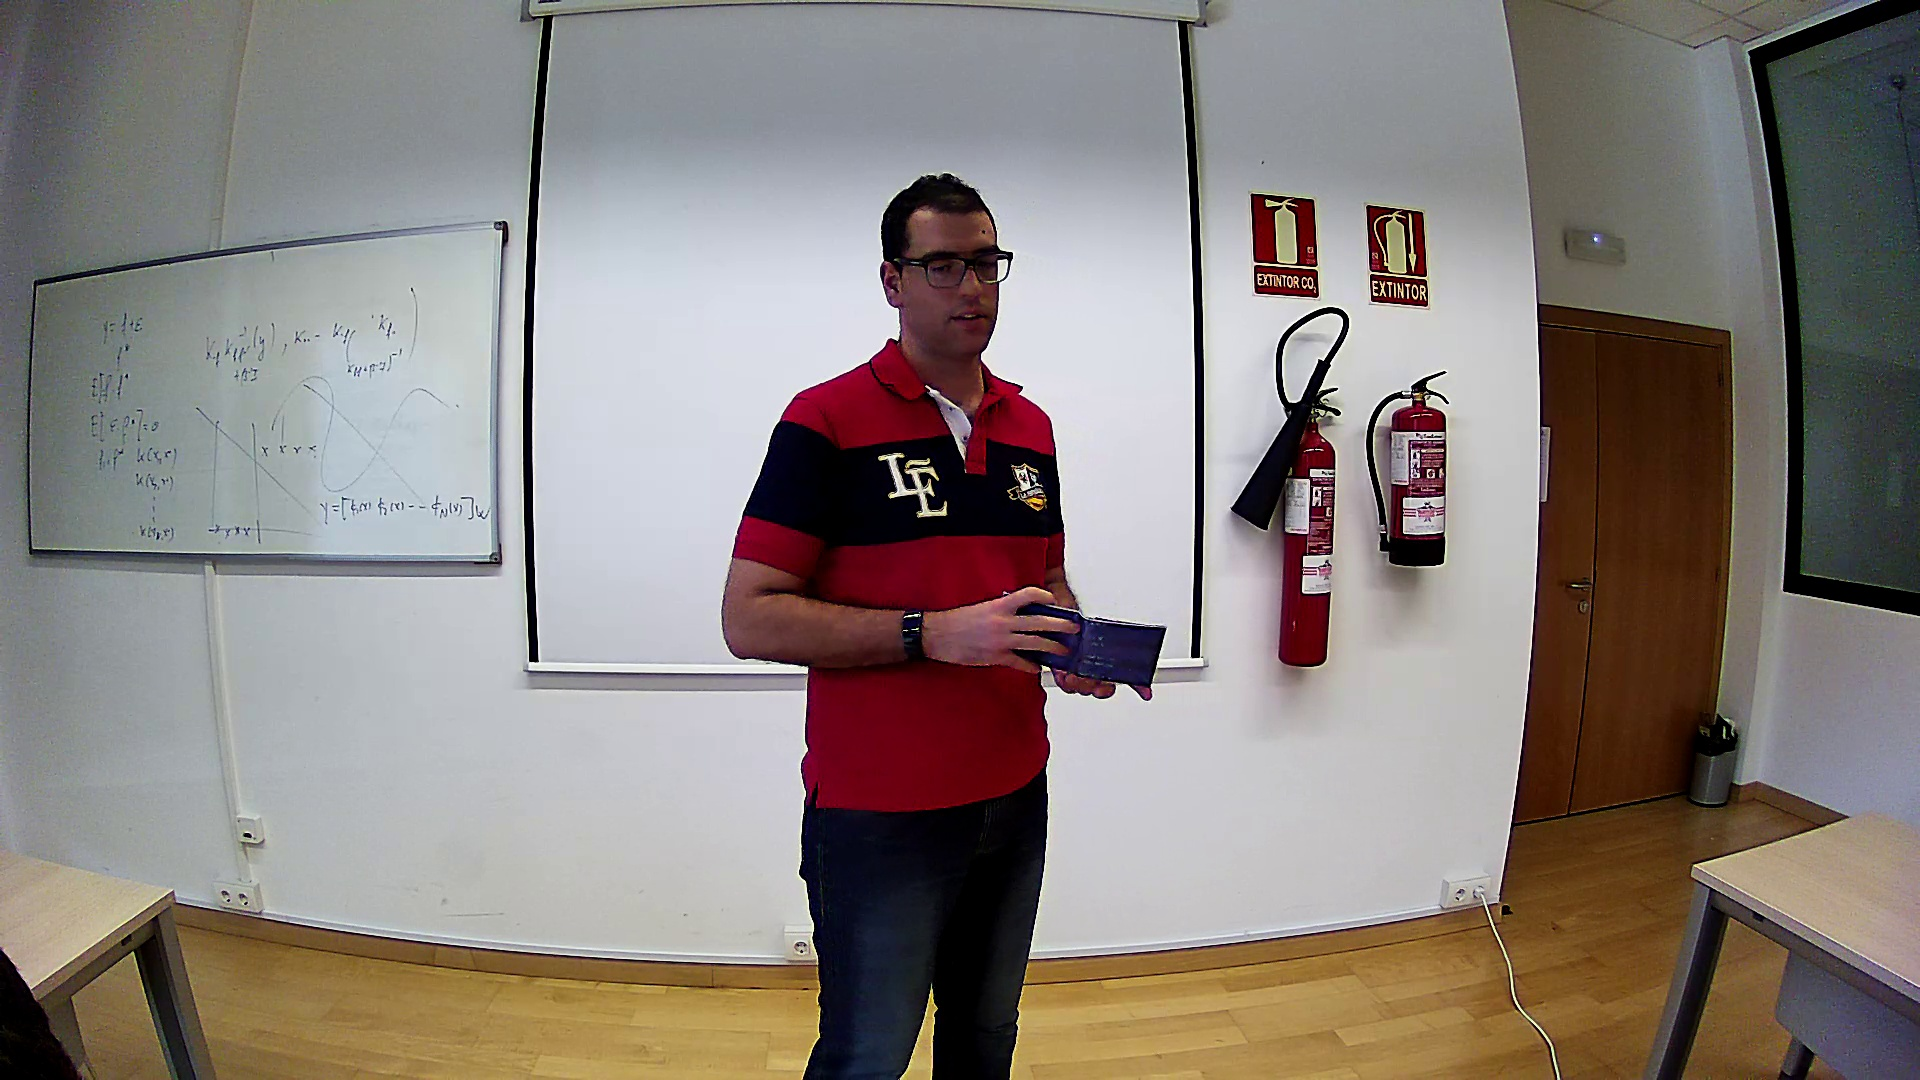monedero: (1001, 591, 1168, 688)
